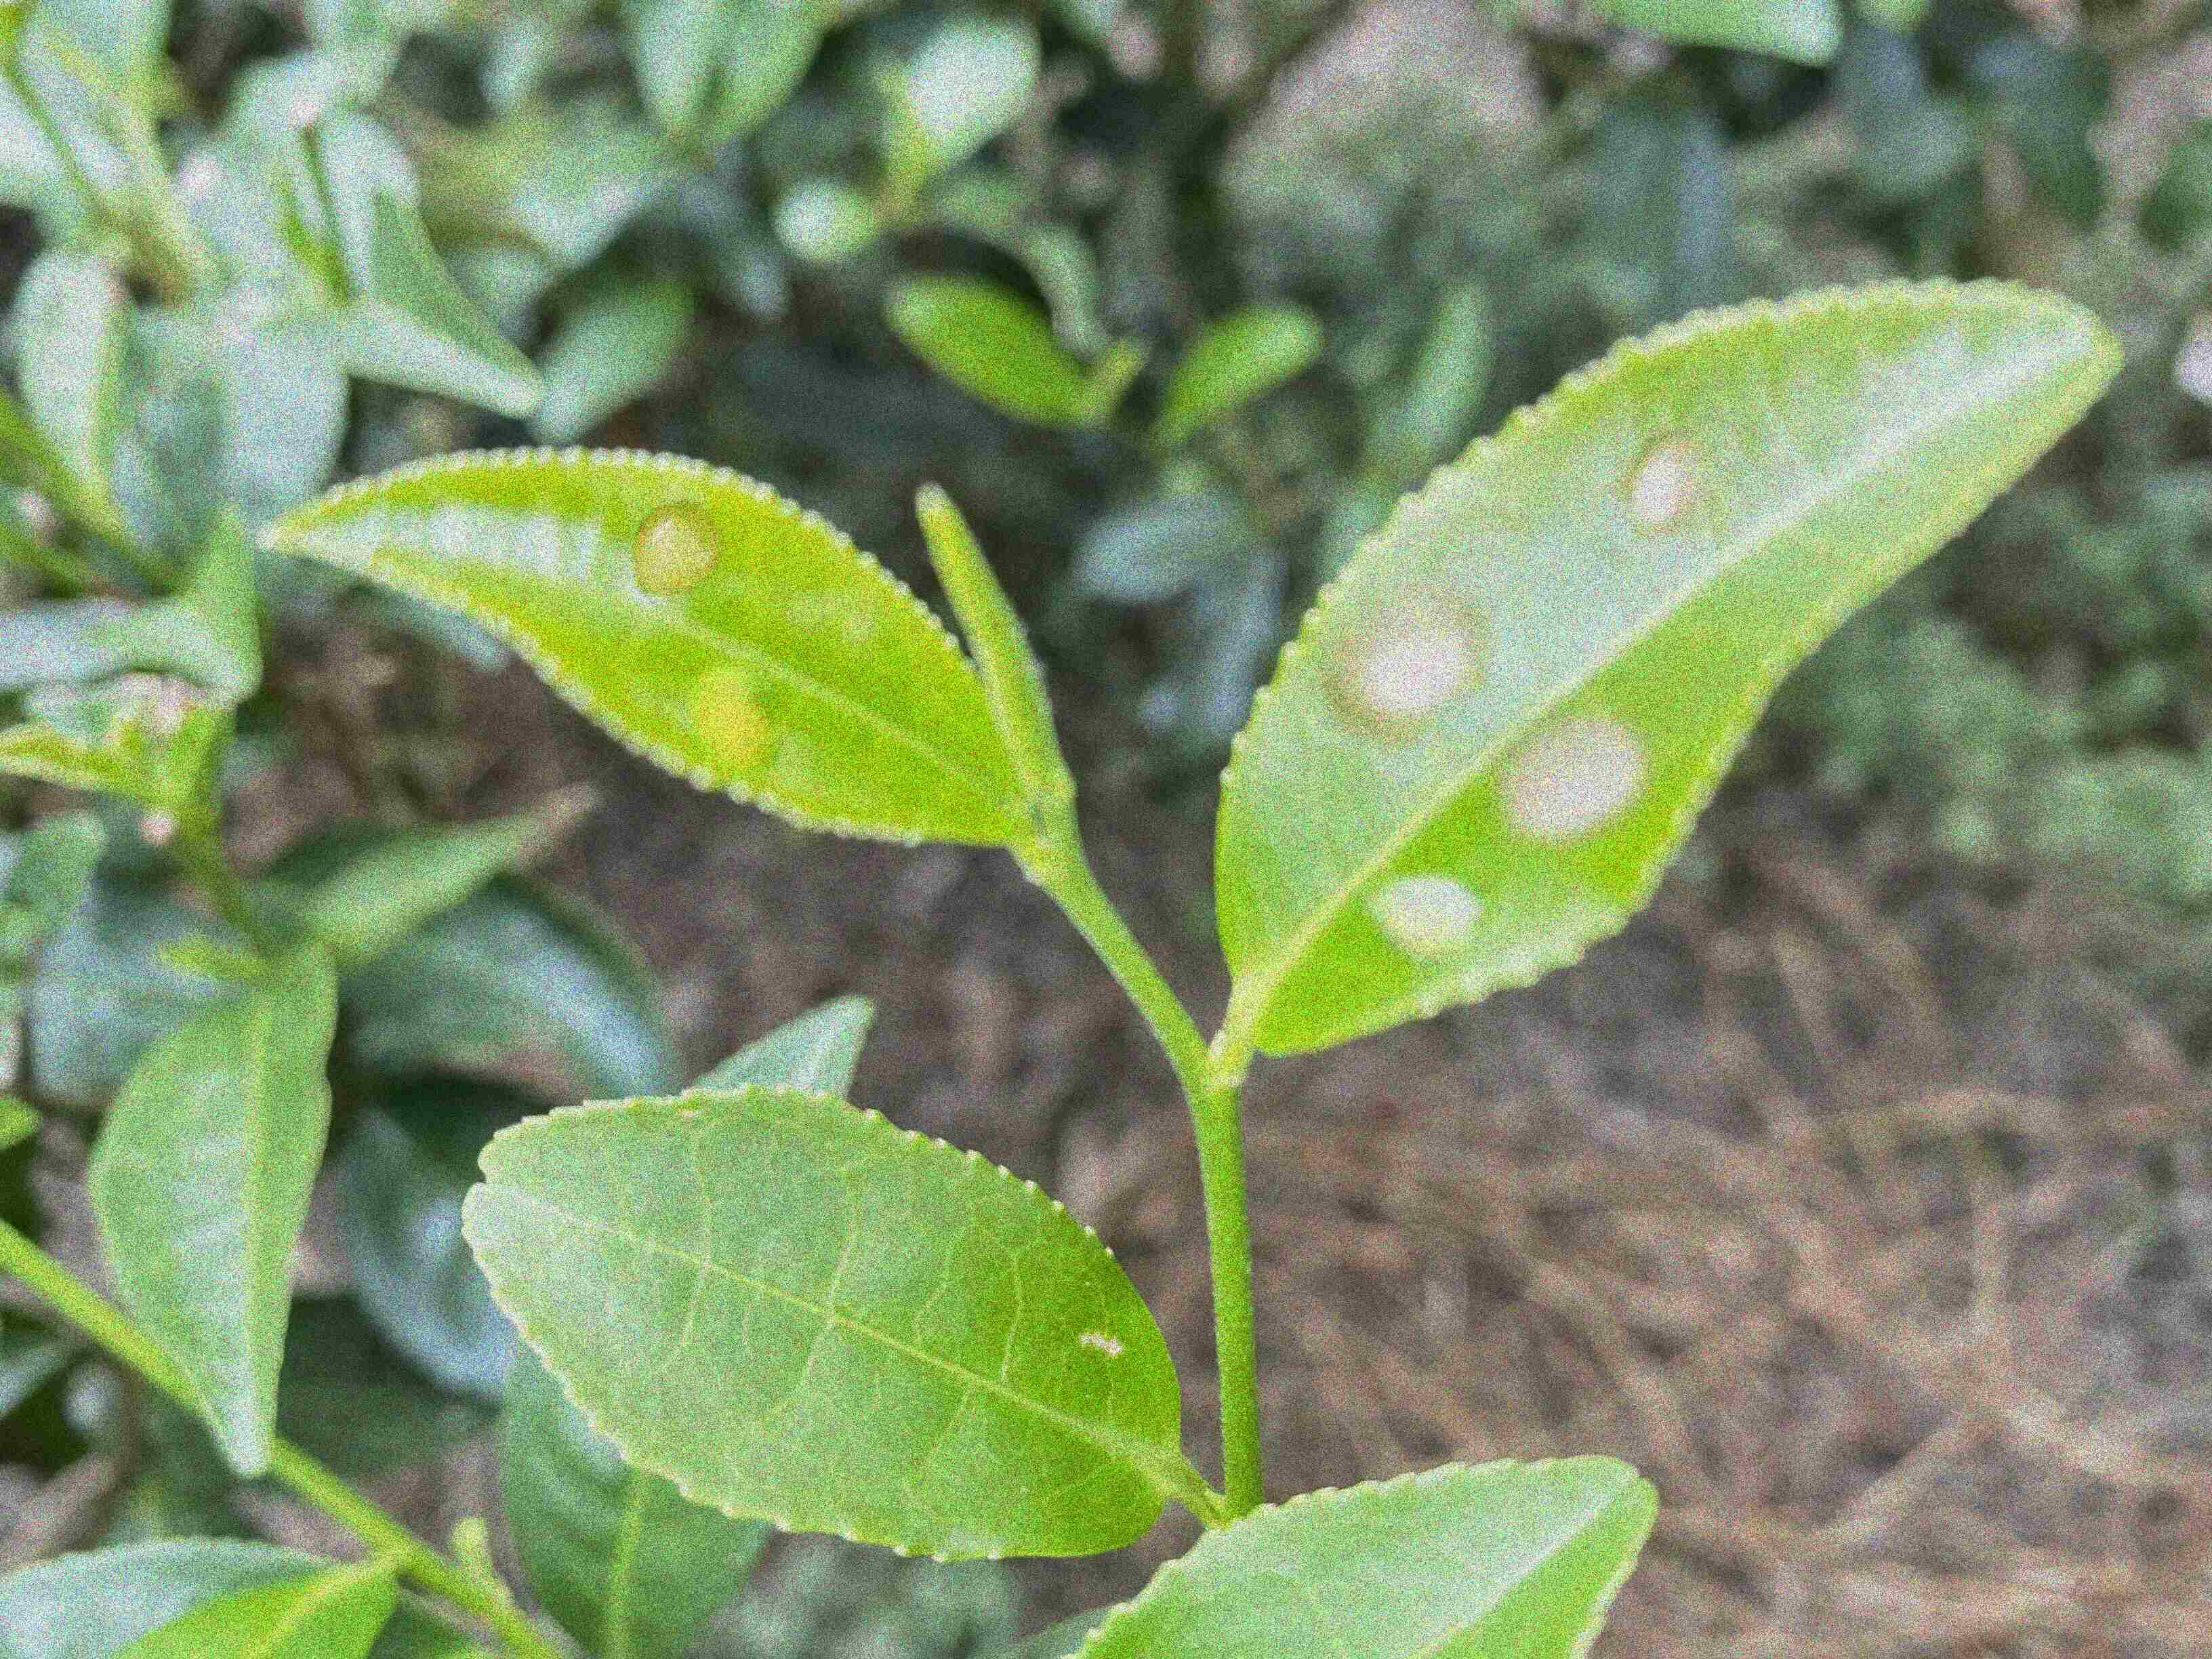chabing_high: (1209, 277, 2125, 1063), (263, 444, 1028, 852)
healthy: (1071, 1452, 1662, 1657)
tanju_low: (458, 1082, 1186, 1565)
